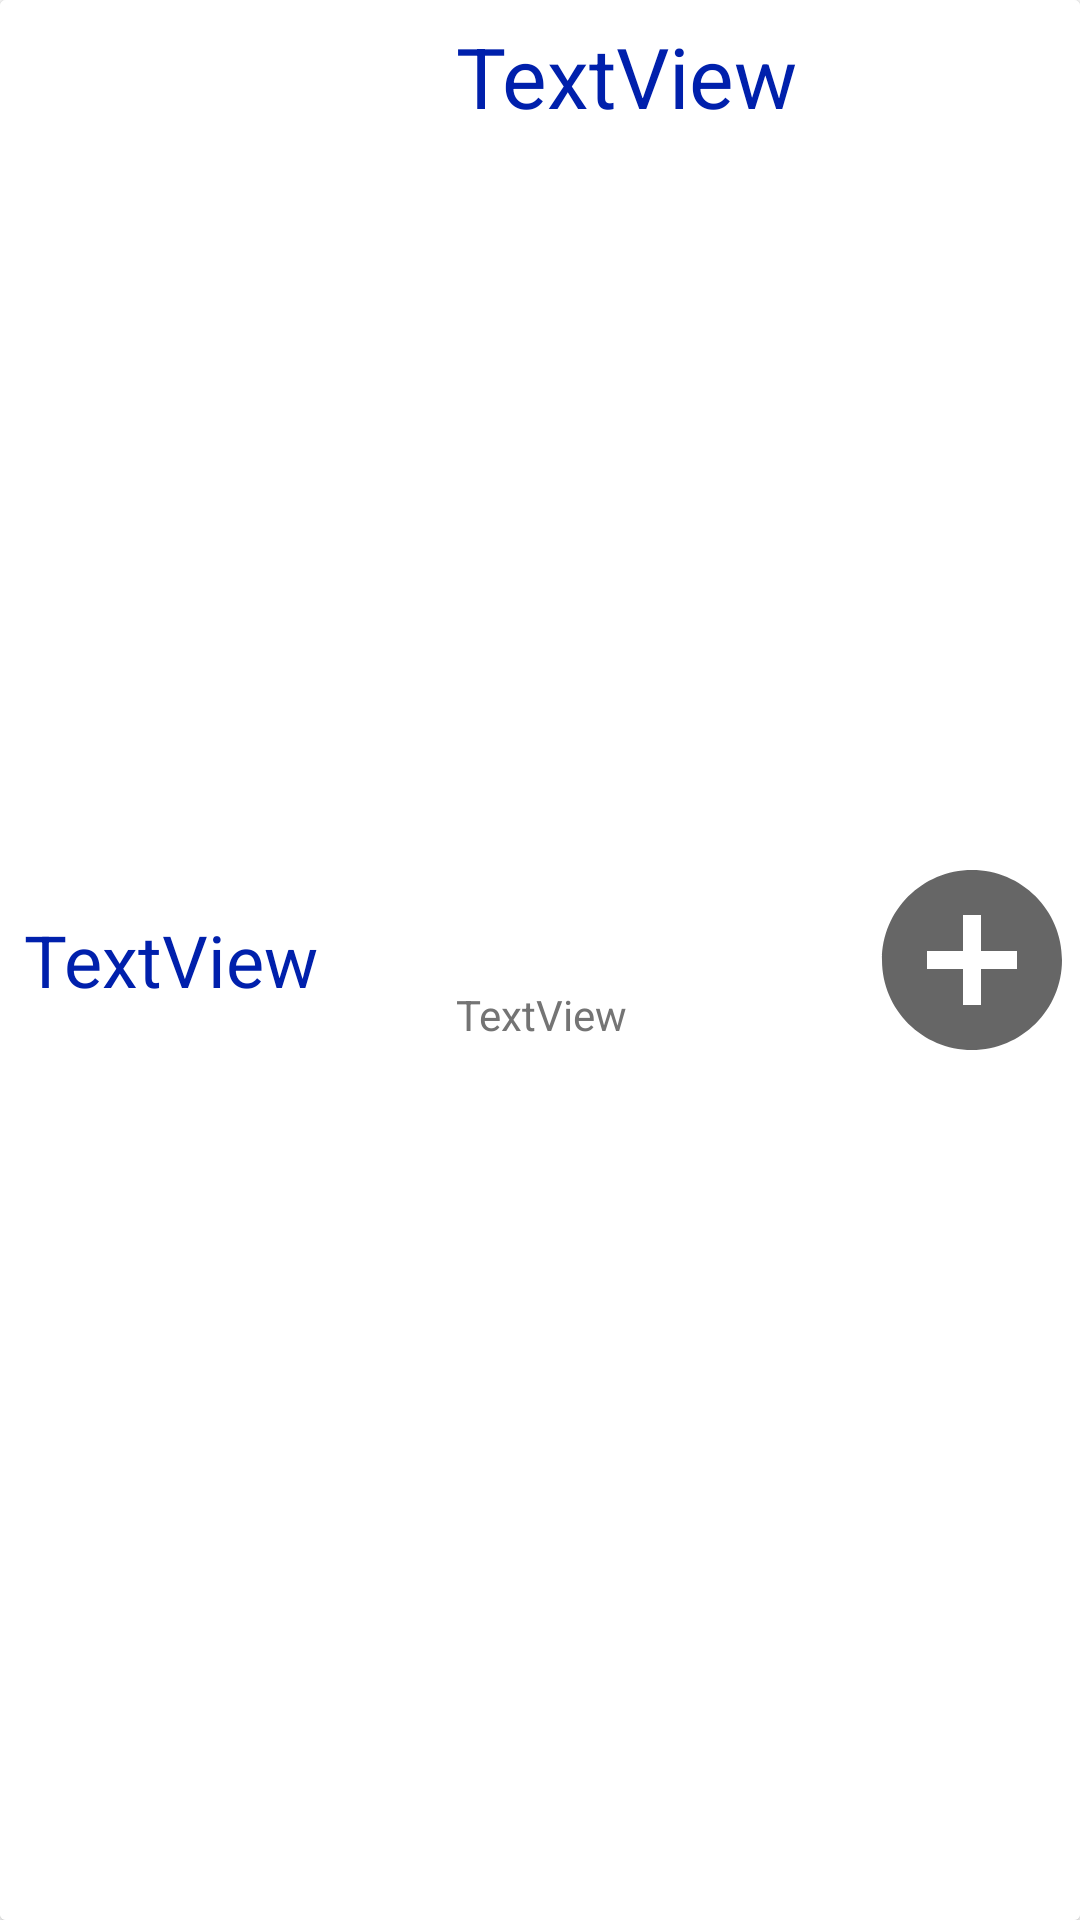

Icon click points for this 1080 × 1920 phone screenshot, format point (x, y):
add circle: point (972, 960)
